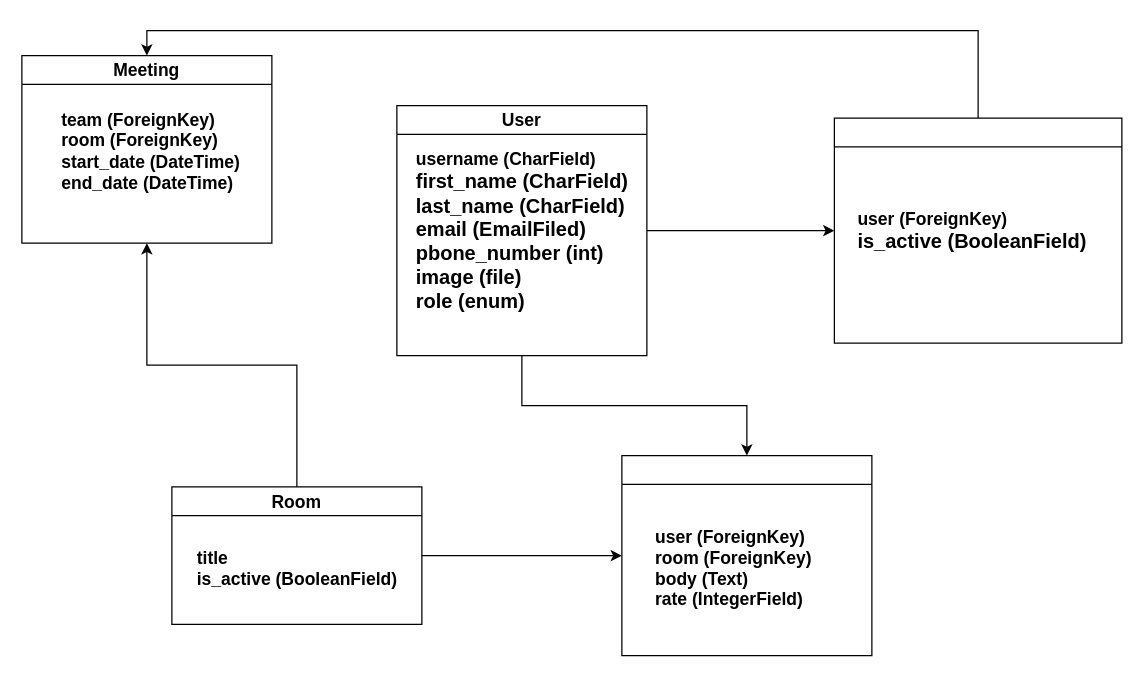
Some shapes in this 1144 by 678 pixel diagram are drawn without their labels. The shapes that lost their labels are listed below. From the top down, each one's box as (x1, y1, x2, y2) in pixels, then its label:
(833, 117, 1122, 343): Team
(621, 454, 872, 656): Comment_Room
